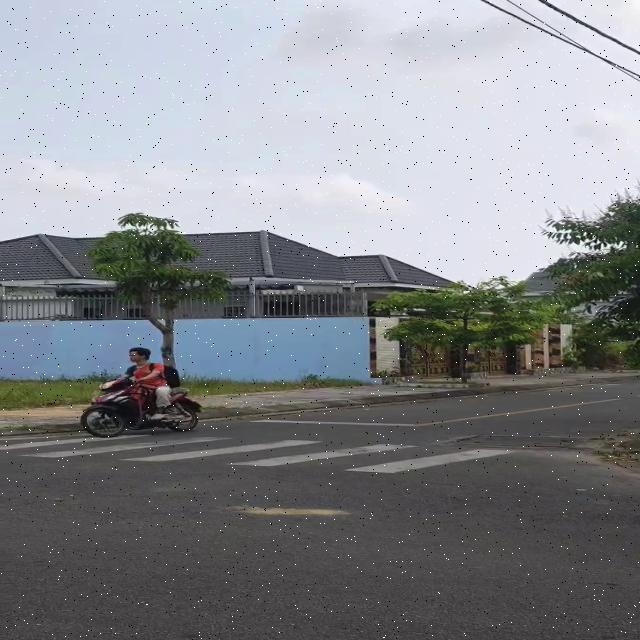no_helmet: (127, 344, 152, 364)
